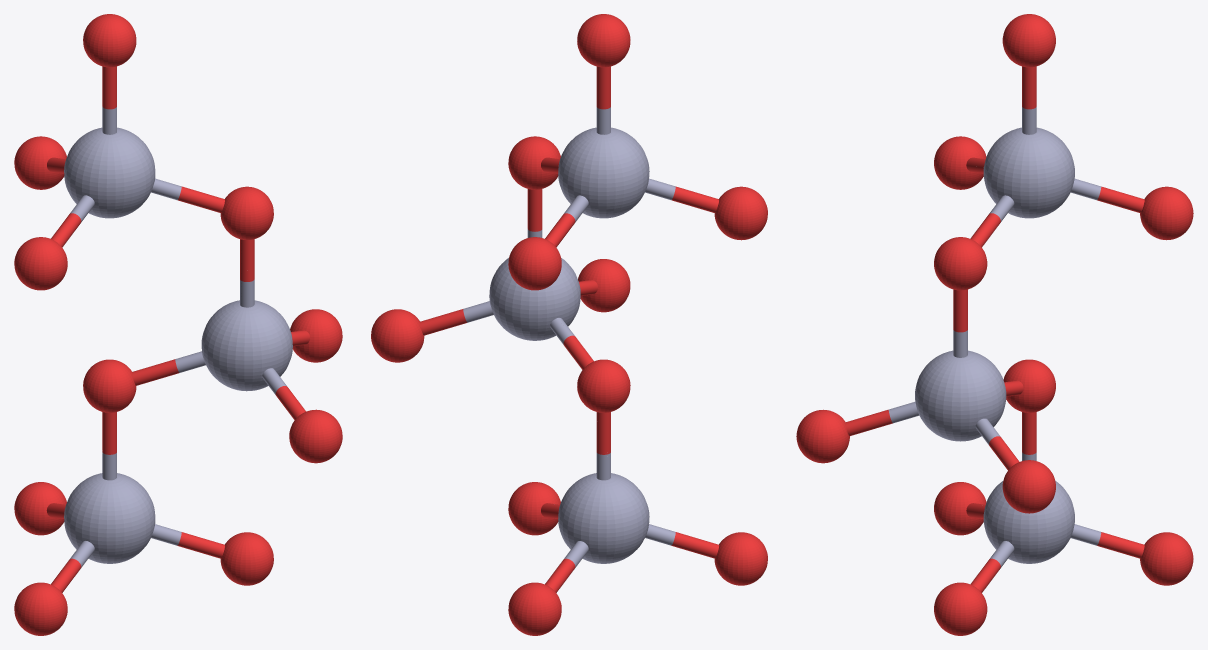
File: zincoxide.dae
3 renders of one model, left to right at view 1: azimuth 30°, elevation 25°; view 2: azimuth 150°, elevation 25°; view 3: azimuth 270°, elevation 25°, orthographic.
Visible parts, largest first — view 1: Ball_Zinc_003, Ball_Zinc_002, Ball_Zinc_001, Ball_Oxygen_003, Ball_Oxygen_006, Ball_Oxygen_007, Ball_Oxygen_009, Ball_Oxygen_004, Ball_Oxygen_001, Ball_Oxygen_002, Ball_Oxygen_010, Ball_Oxygen_008 (+1 smaller); view 2: Ball_Zinc_002, Ball_Zinc_001, Ball_Zinc_003, Ball_Oxygen_005, Ball_Oxygen_007, Ball_Oxygen_008, Ball_Oxygen_001, Ball_Oxygen_003, Ball_Oxygen_010, Ball_Oxygen_006, Ball_Oxygen_004, Ball_Oxygen_009 (+1 smaller); view 3: Ball_Zinc_003, Ball_Zinc_002, Ball_Zinc_001, Ball_Oxygen_010, Ball_Oxygen_002, Ball_Oxygen_004, Ball_Oxygen_007, Ball_Oxygen_005, Ball_Oxygen_008, Ball_Oxygen_009, Ball_Oxygen_003, Ball_Oxygen_001 (+1 smaller).
Part boxes in pixels (x1,y1,x2,y2): Ball_Zinc_003: (201, 300, 292, 391); Ball_Zinc_002: (64, 127, 155, 218); Ball_Zinc_001: (64, 473, 155, 563); Ball_Oxygen_003: (14, 582, 67, 635); Ball_Oxygen_006: (14, 237, 67, 290); Ball_Oxygen_007: (83, 14, 136, 67); Ball_Oxygen_009: (289, 409, 342, 463); Ball_Oxygen_004: (220, 532, 273, 585); Ball_Oxygen_001: (83, 359, 136, 412); Ball_Oxygen_002: (220, 186, 273, 239); Ball_Oxygen_010: (290, 309, 342, 362); Ball_Oxygen_008: (14, 136, 66, 189); Ball_Zinc_002: (558, 127, 649, 218); Ball_Zinc_001: (558, 473, 649, 563); Ball_Zinc_003: (489, 258, 580, 340); Ball_Oxygen_005: (508, 582, 561, 635); Ball_Oxygen_007: (577, 14, 630, 67); Ball_Oxygen_008: (508, 237, 561, 290); Ball_Oxygen_001: (577, 359, 630, 412); Ball_Oxygen_003: (714, 532, 767, 585); Ball_Oxygen_010: (371, 309, 424, 362); Ball_Oxygen_006: (714, 186, 767, 240); Ball_Oxygen_004: (508, 482, 560, 535); Ball_Oxygen_009: (578, 259, 630, 312); Ball_Zinc_003: (915, 350, 1006, 441); Ball_Zinc_002: (983, 127, 1074, 218); Ball_Zinc_001: (983, 481, 1074, 563); Ball_Oxygen_010: (1002, 460, 1055, 513); Ball_Oxygen_002: (934, 237, 987, 290); Ball_Oxygen_004: (934, 582, 987, 635); Ball_Oxygen_007: (1002, 14, 1055, 67); Ball_Oxygen_005: (1140, 532, 1193, 585); Ball_Oxygen_008: (1140, 186, 1193, 240); Ball_Oxygen_009: (796, 409, 849, 463); Ball_Oxygen_003: (934, 482, 986, 535); Ball_Oxygen_001: (1003, 359, 1055, 412).
Size of the model in its own units: 5.6 by 5.42 by 8.54.
